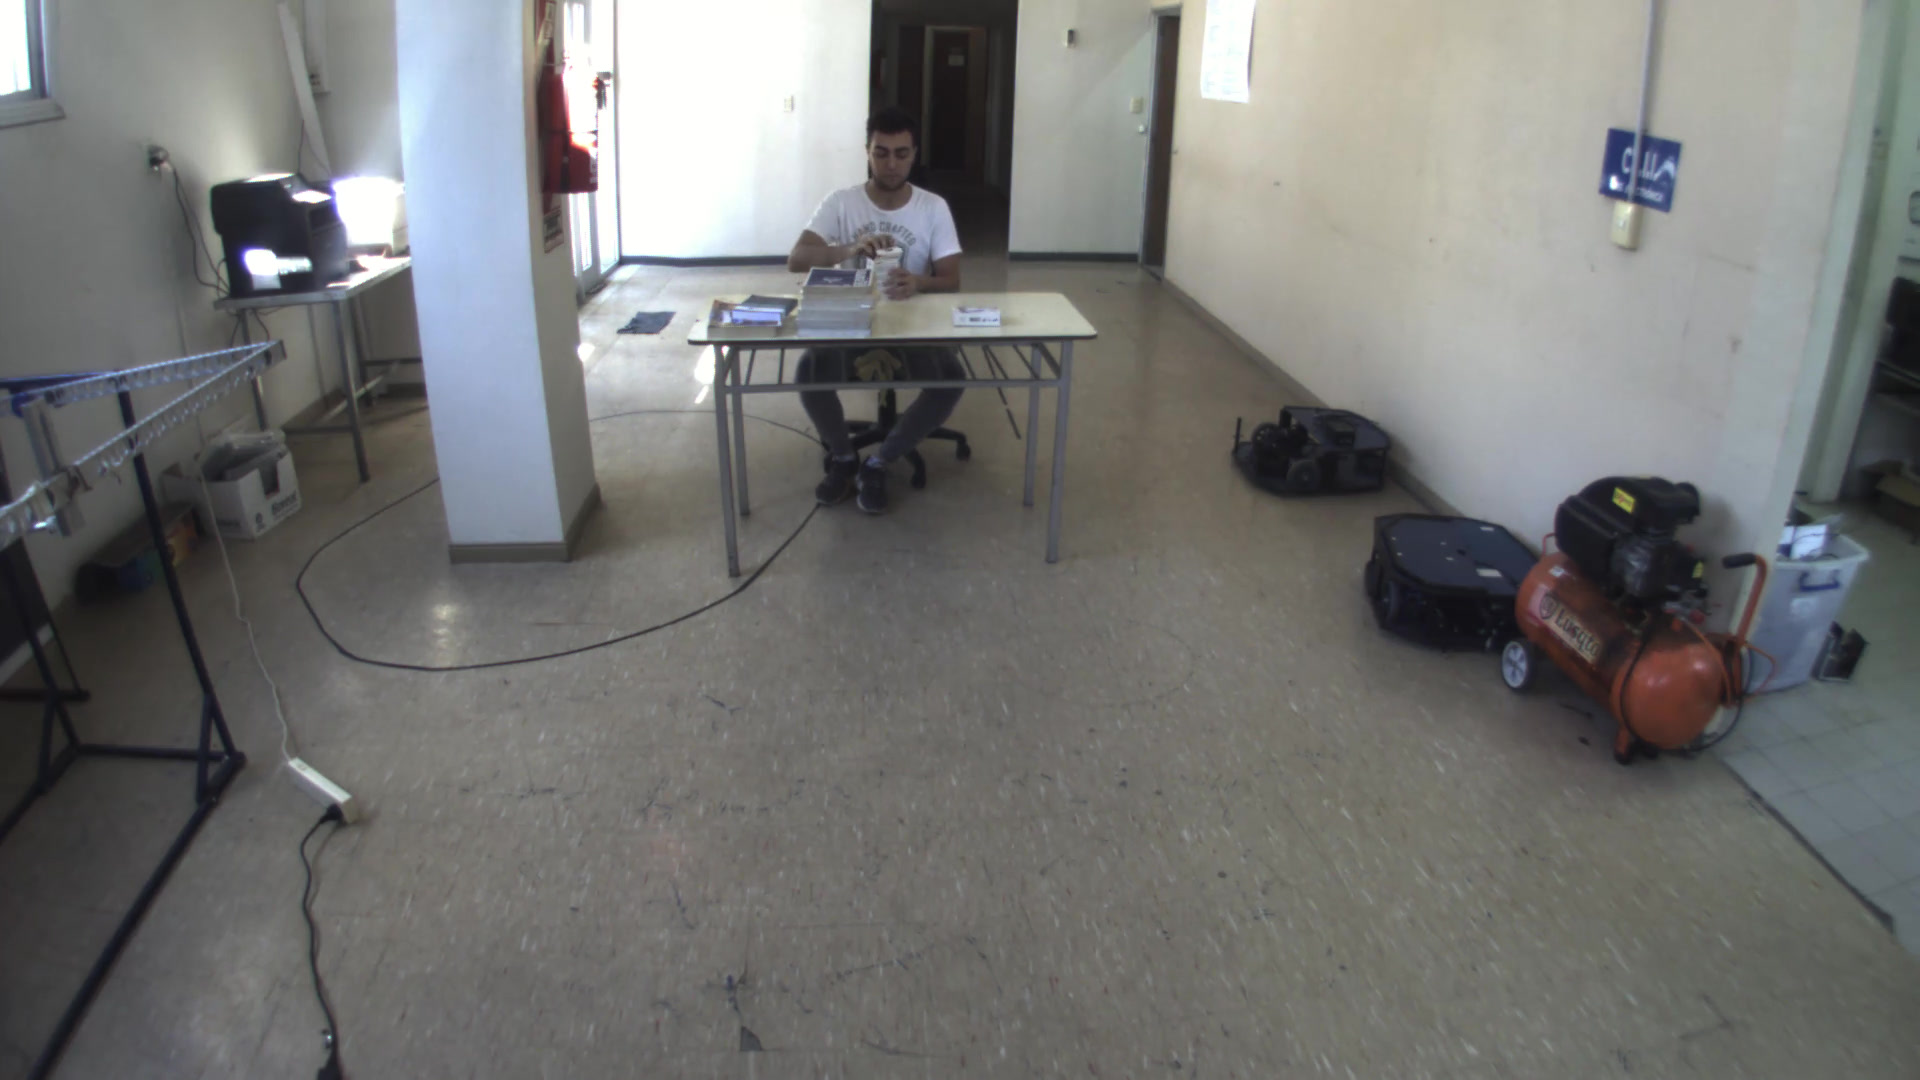hand: (881, 262, 920, 303), (843, 231, 898, 258)
